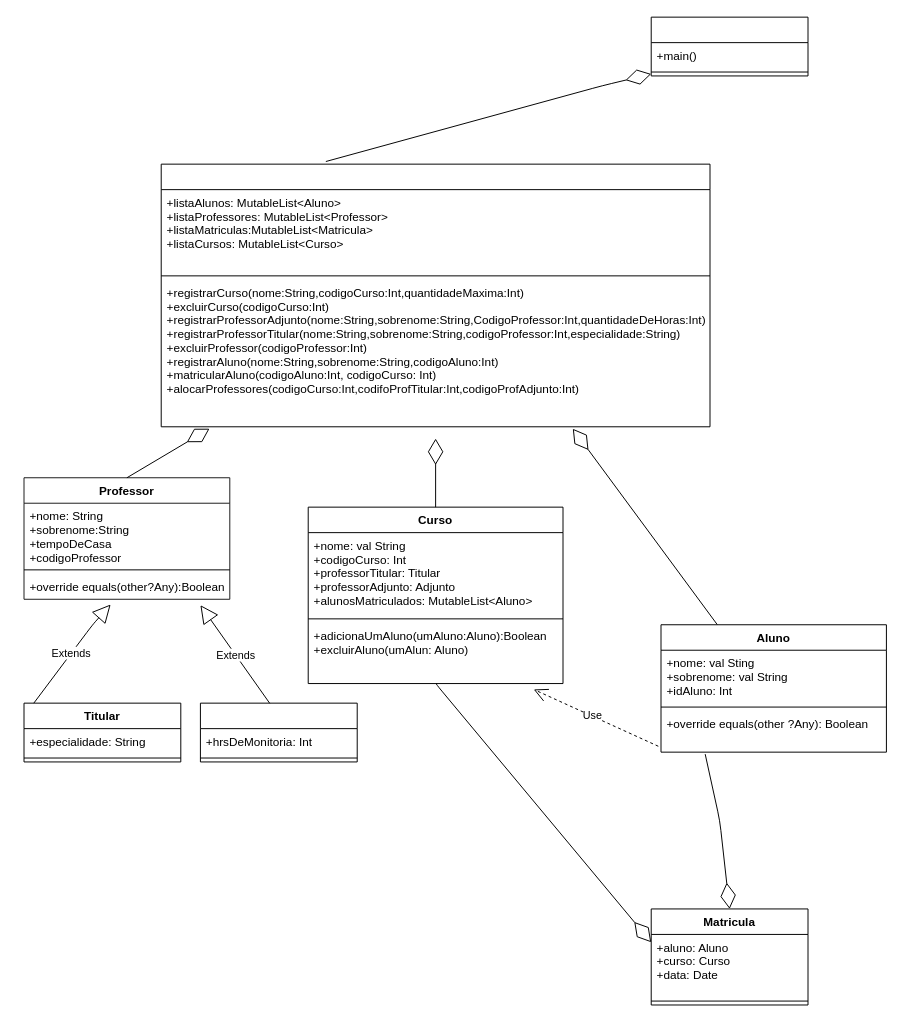
Some shapes in this 904 by 1022 pixel diagram are drawn without their labels. The shapes that lost their labels are listed below. From the top down, each one's box as (x1, y1, x2, y2) in pixels, then its label:
(650, 16, 808, 76): Principal
(160, 163, 710, 427): DhManager
(199, 702, 357, 762): Adjunto
